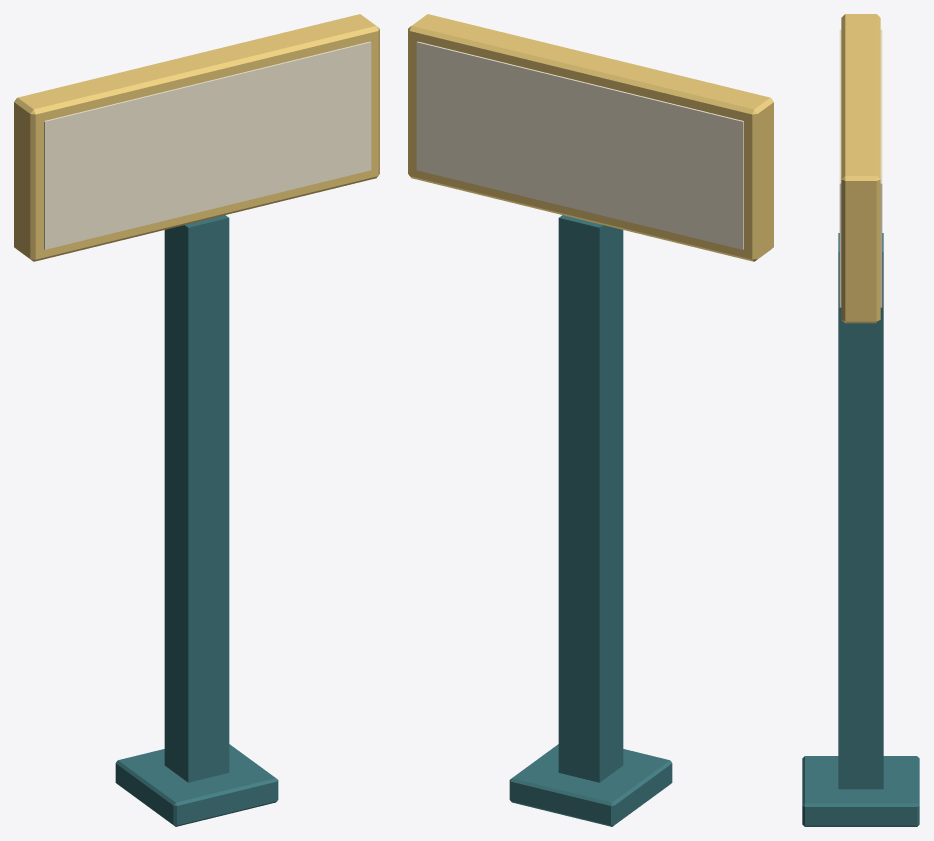
File: pylon-sign.glb
The picture shows the model from 3 angles, left to right: view 1: azimuth 30°, elevation 25°; view 2: azimuth 150°, elevation 25°; view 3: azimuth 270°, elevation 25°; orthographic projection. The views are drawn at different scales.
Visible parts, largest first — view 1: pylon-sign; view 2: pylon-sign; view 3: pylon-sign.
Part boxes in pixels (bbox=[...]): pylon-sign: bbox=[14, 14, 379, 826]; pylon-sign: bbox=[408, 14, 773, 826]; pylon-sign: bbox=[802, 14, 919, 826].
Bounding box in the file's own units: 0.6 × 1.2 × 0.18.
